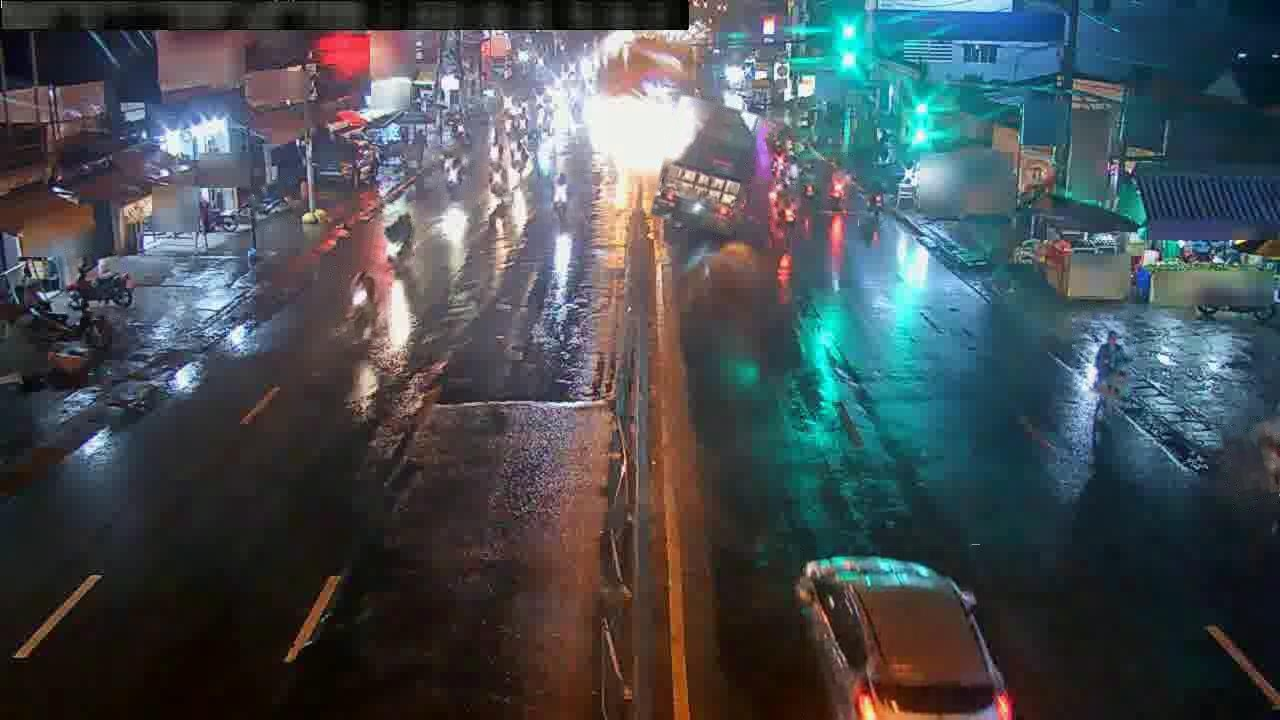Car: (796, 556, 1014, 719)
Motorcyclist: (1224, 417, 1279, 503), (1086, 329, 1130, 422), (68, 260, 132, 309), (344, 268, 386, 338), (383, 208, 414, 265), (550, 172, 580, 225), (759, 131, 789, 180), (822, 163, 852, 210), (252, 184, 289, 220), (771, 188, 798, 237), (859, 183, 886, 228), (440, 154, 466, 197), (797, 161, 821, 205), (484, 164, 509, 203)
Truck: (652, 101, 756, 238)
